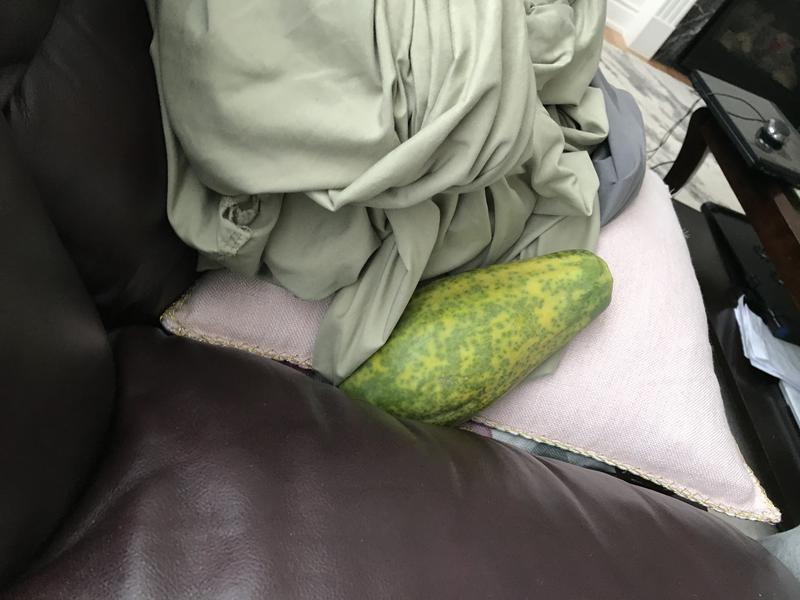papaya: (328, 244, 618, 434)
